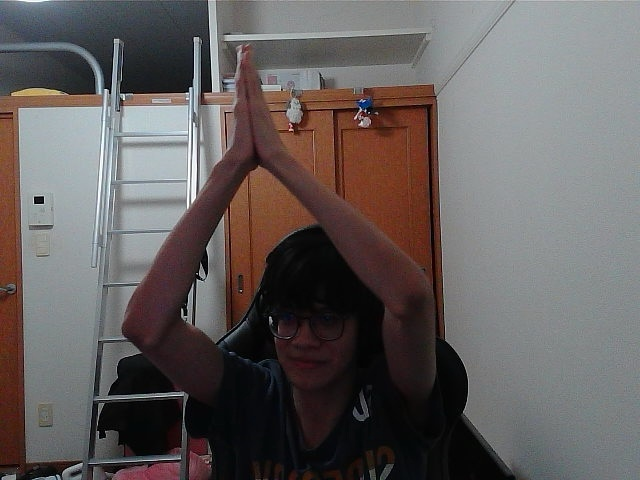pray: (244, 55, 252, 151)
